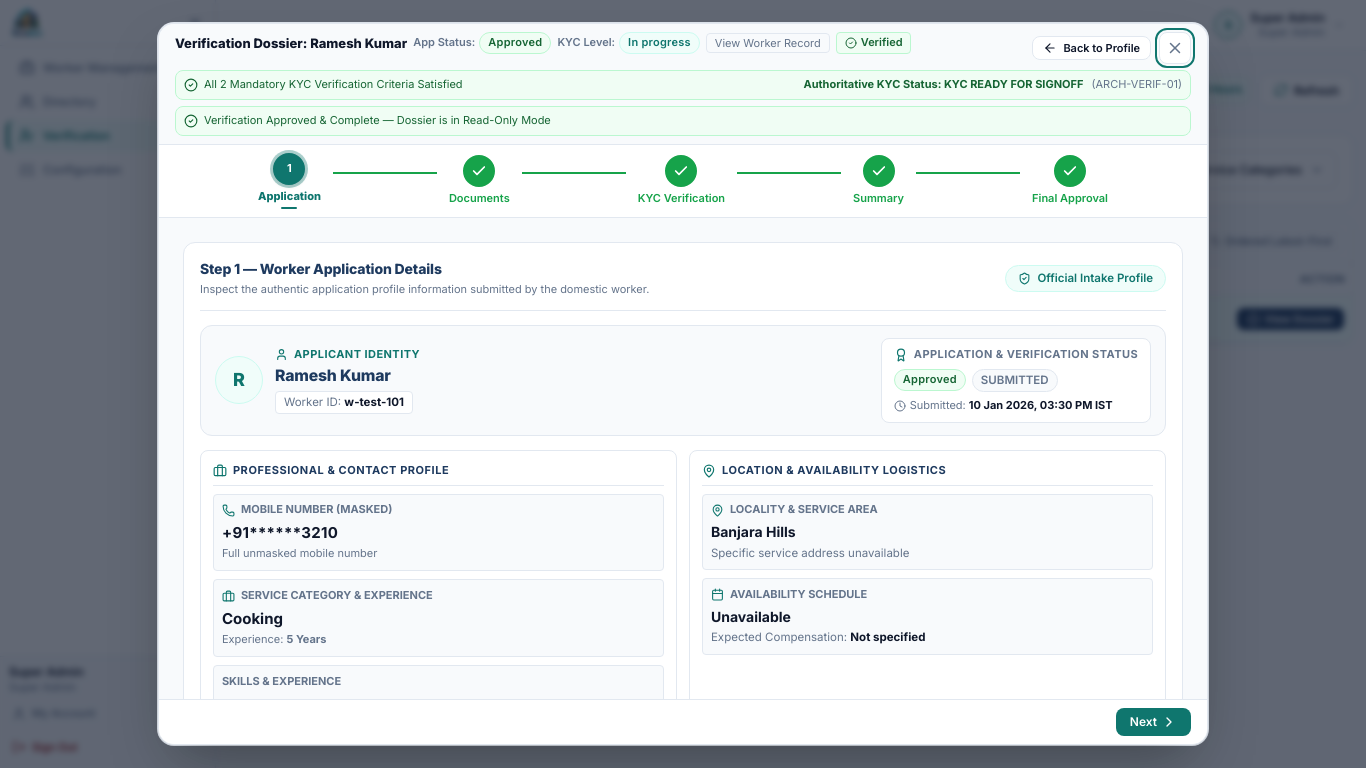
Test: Worker Profile Navigation & History Preservation › 4. Directly opening a verification dossier with returnTo does not cause a navigation loop
Expected: the heading "Verification Dossier: Ramesh Kumar" is shown, [175,34,407,51]
// Click back to profile button
Click the button with test id "dossier-back-to-profile-btn" at {"x": 1092, "y": 48}, box [1032,36,1151,60]
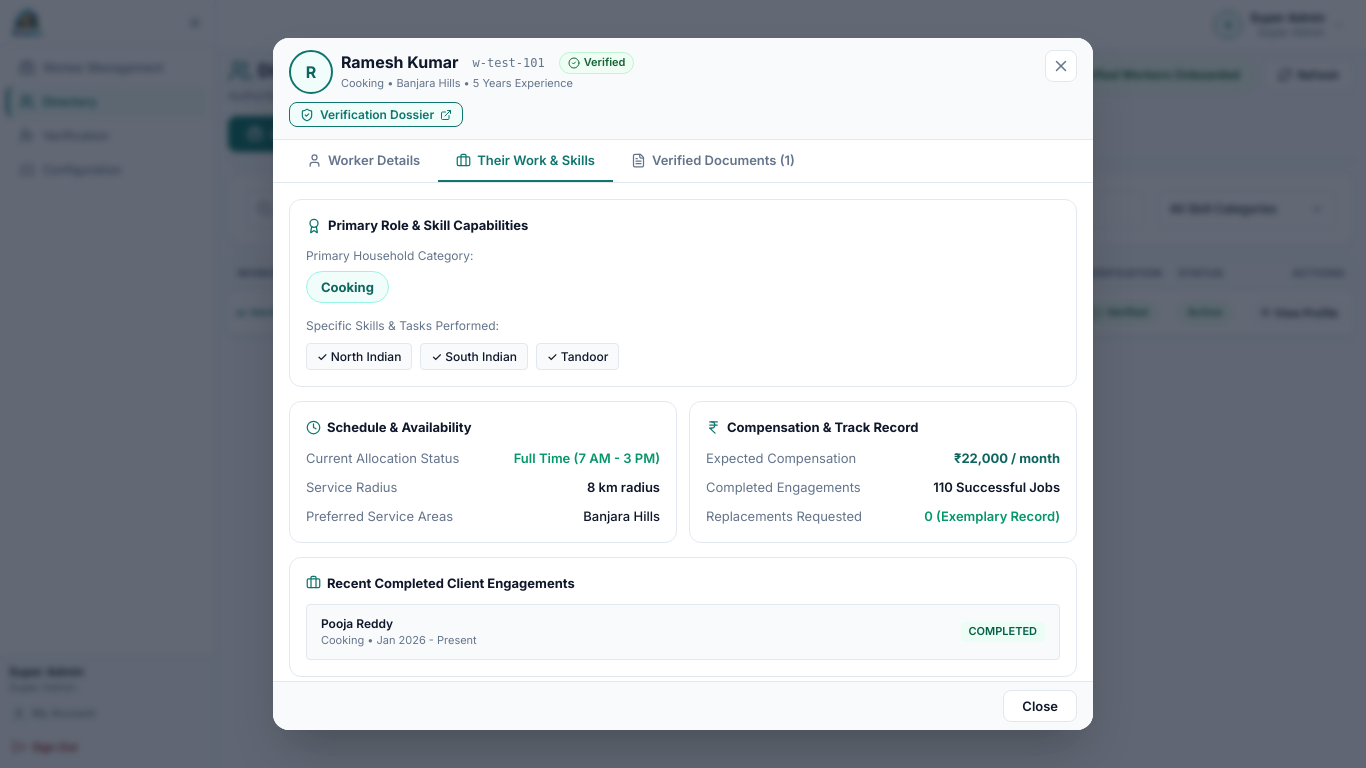
Expected: the dialog is shown
